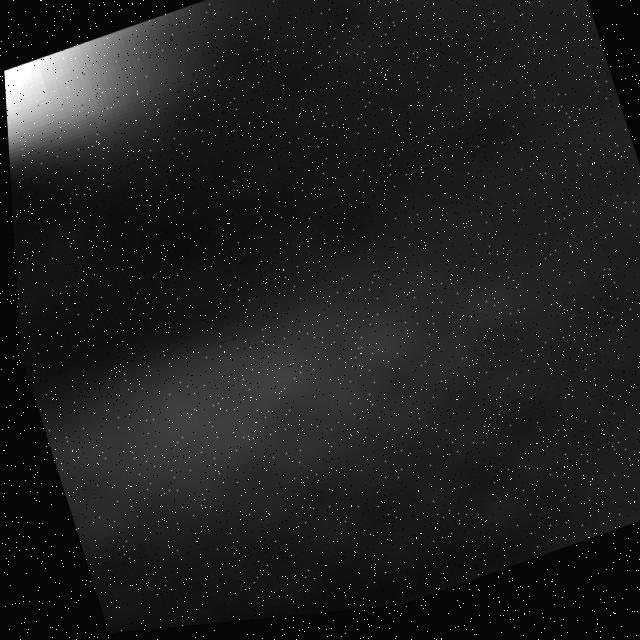person: (2, 9, 223, 201)
